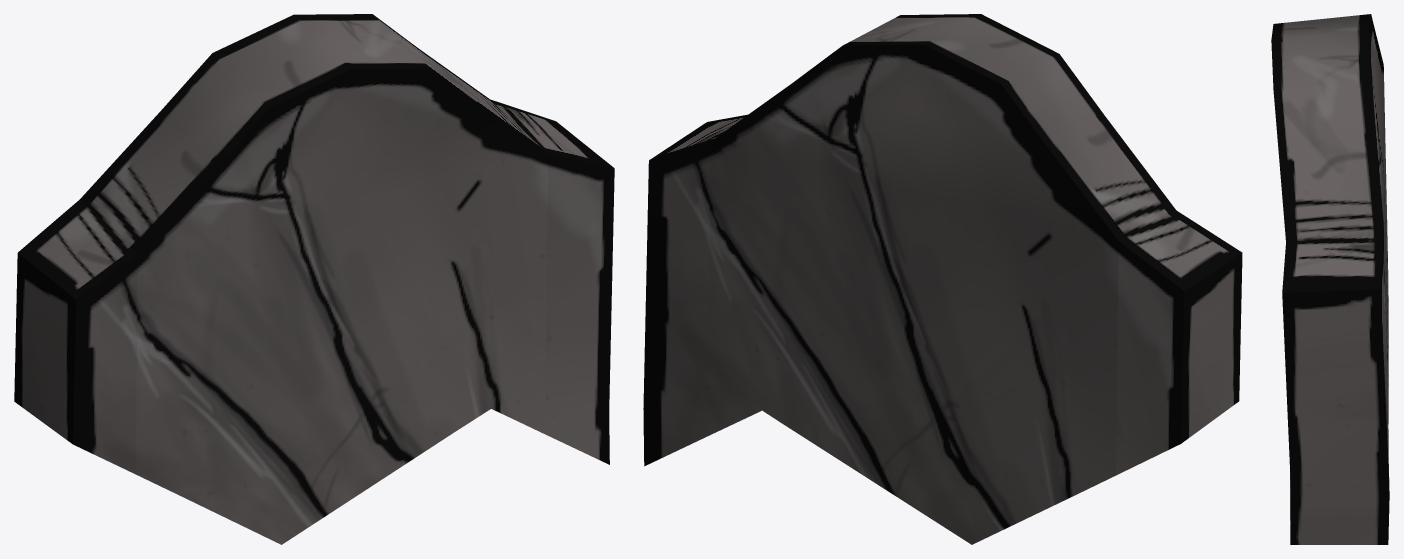
The model's file is tombstone4_gib2.fbx.
3 renders of one model, left to right at view 1: azimuth 30°, elevation 25°; view 2: azimuth 150°, elevation 25°; view 3: azimuth 270°, elevation 25°, orthographic. The views are drawn at different scales.
Parts seen in each view (by area): view 1: tombstone4_gib2; view 2: tombstone4_gib2; view 3: tombstone4_gib2.
Boxes of the visible parts, box(x1,y1,x2,y2) form: tombstone4_gib2: box(14, 14, 614, 544); tombstone4_gib2: box(643, 14, 1242, 544); tombstone4_gib2: box(1271, 14, 1389, 544).
Size of the model in its own units: 202 by 173 by 45.85.
